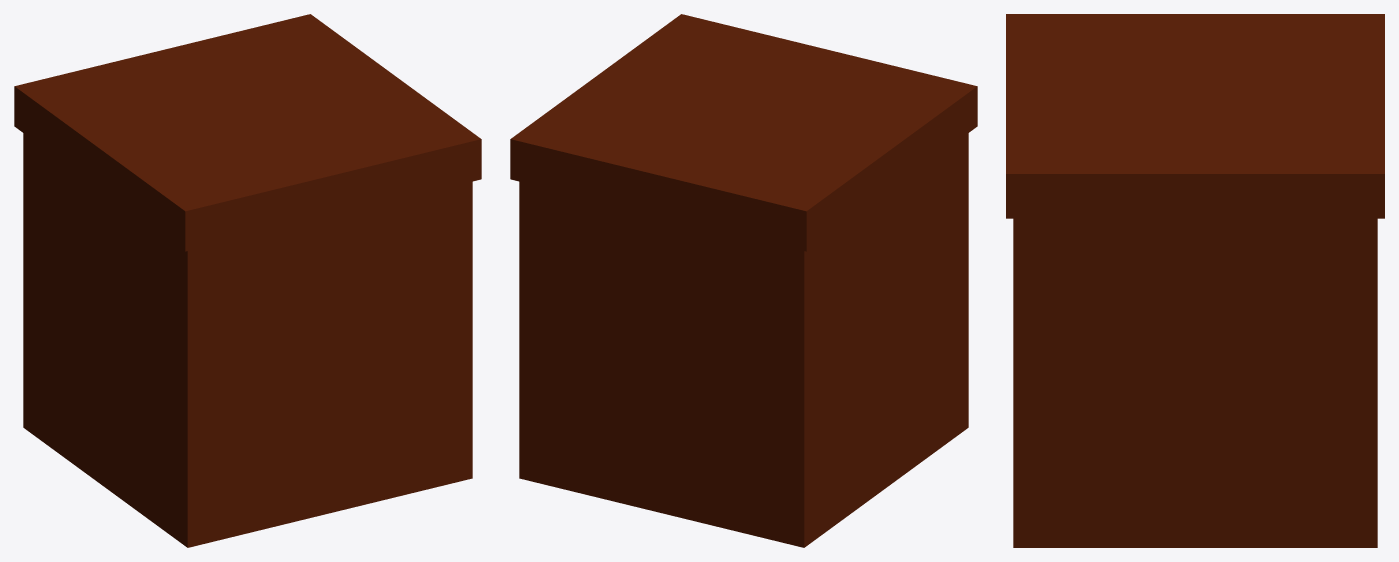
Rendered from CajaCarton.FBX.
3 views of the same model, side by side, from view 1: azimuth 30°, elevation 25°; view 2: azimuth 150°, elevation 25°; view 3: azimuth 270°, elevation 25° (orthographic). The views are drawn at different scales.
Parts seen in each view (by area): view 1: Caja; view 2: Caja; view 3: Caja.
Part boxes in pixels (x1,y1,x2,y2): Caja: (14, 14, 481, 547); Caja: (510, 14, 977, 547); Caja: (1006, 14, 1384, 547).
Bounding box in the file's own units: 2.11 × 2.32 × 2.11.
